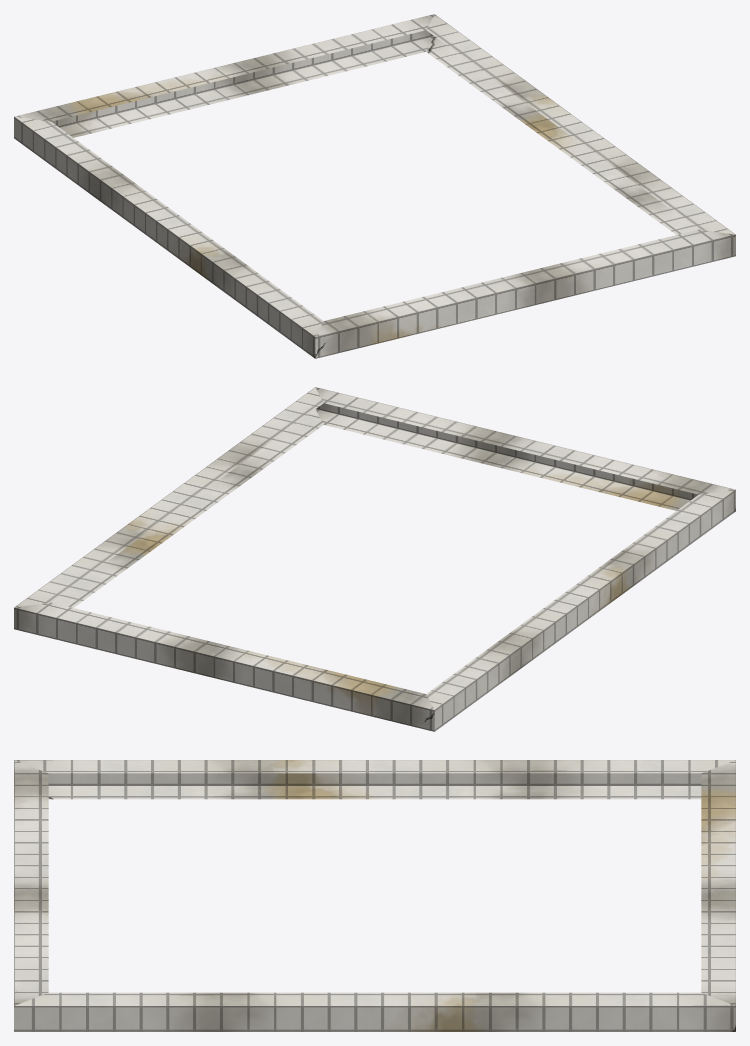
The model's file is TesteiraCasaQuadrado 1.fbx.
3 renders of one model, top to bottom at view 1: azimuth 30°, elevation 25°; view 2: azimuth 150°, elevation 25°; view 3: azimuth 270°, elevation 25°, orthographic. The views are drawn at different scales.
Visible parts, largest first — view 1: TesteiraCasaQuadrado; view 2: TesteiraCasaQuadrado; view 3: TesteiraCasaQuadrado.
Boxes of the visible parts, left/top/right/bottom form: TesteiraCasaQuadrado: left=14, top=14, right=735, bottom=358; TesteiraCasaQuadrado: left=14, top=387, right=735, bottom=731; TesteiraCasaQuadrado: left=14, top=760, right=735, bottom=1031.
Size of the model in its own units: 1079 by 53.05 by 1338.
